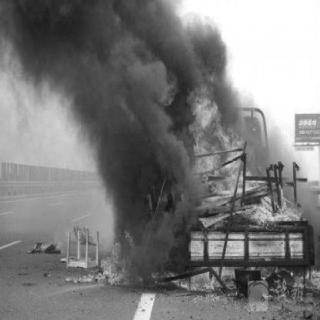Fire: (164, 252, 318, 292)
